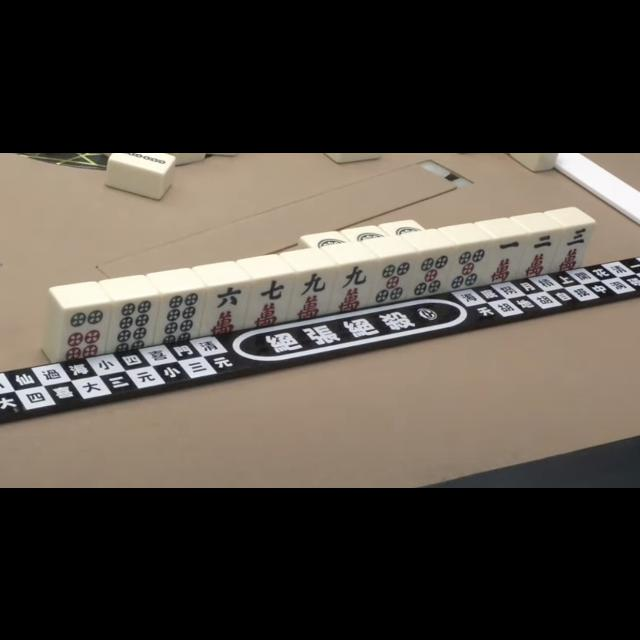c1: (489, 234, 525, 282)
c2: (526, 229, 560, 277)
c3: (558, 222, 592, 270)
c6: (204, 282, 248, 334)
c7: (252, 276, 290, 326)
c9: (290, 270, 334, 318), (336, 262, 374, 312)
d5: (414, 247, 452, 297), (452, 242, 488, 292), (373, 258, 412, 302)
d6: (60, 306, 106, 358)
d8: (110, 298, 156, 348), (160, 290, 202, 338)
